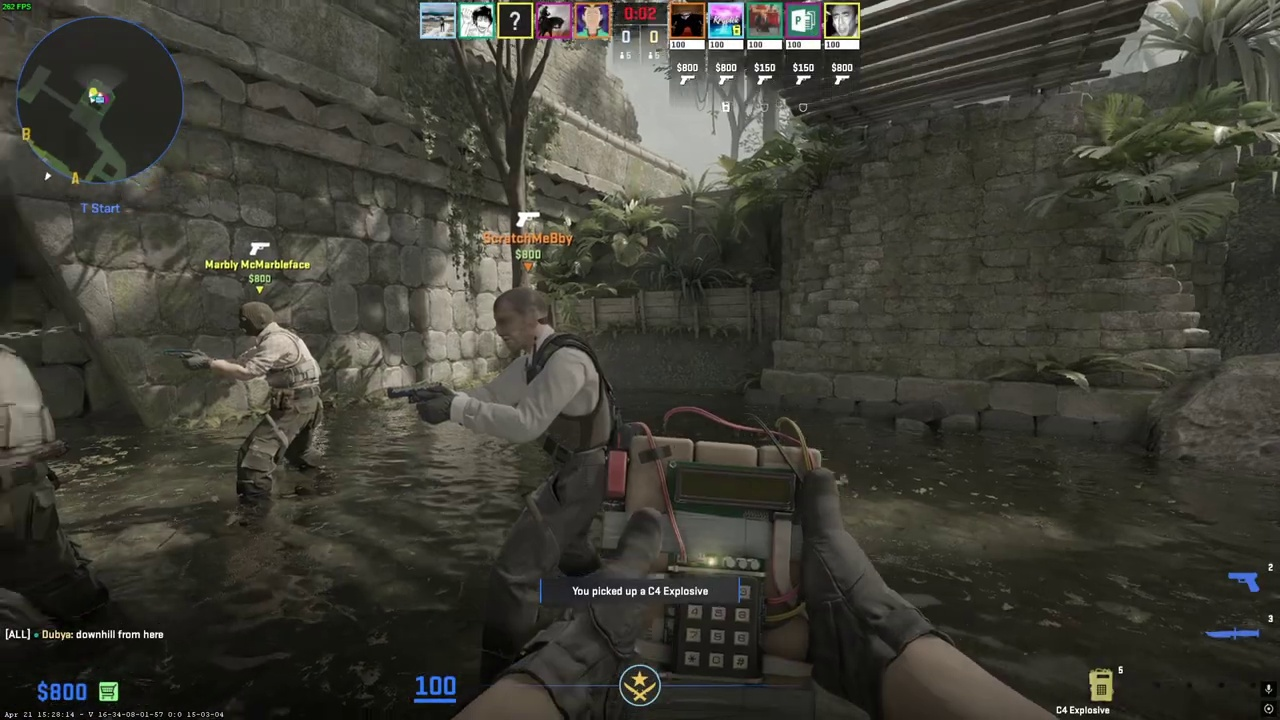Terrorist: (455, 287, 623, 681), (0, 342, 89, 631), (218, 302, 323, 529)
